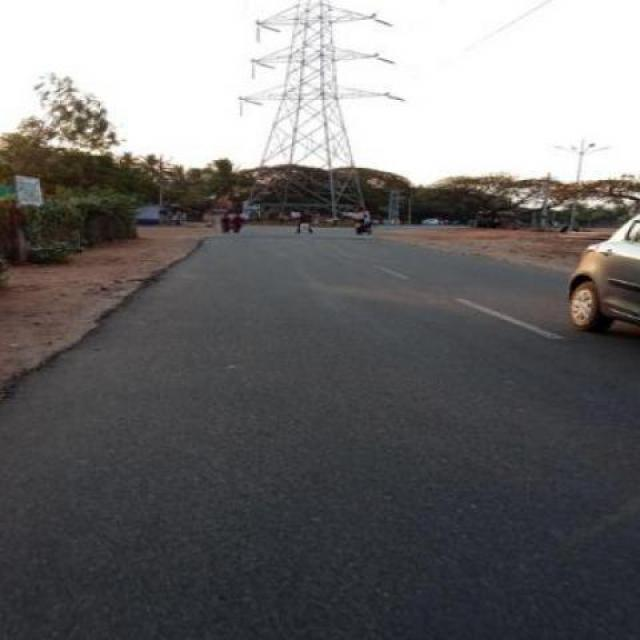Unmarked Bump: (194, 231, 396, 241)
